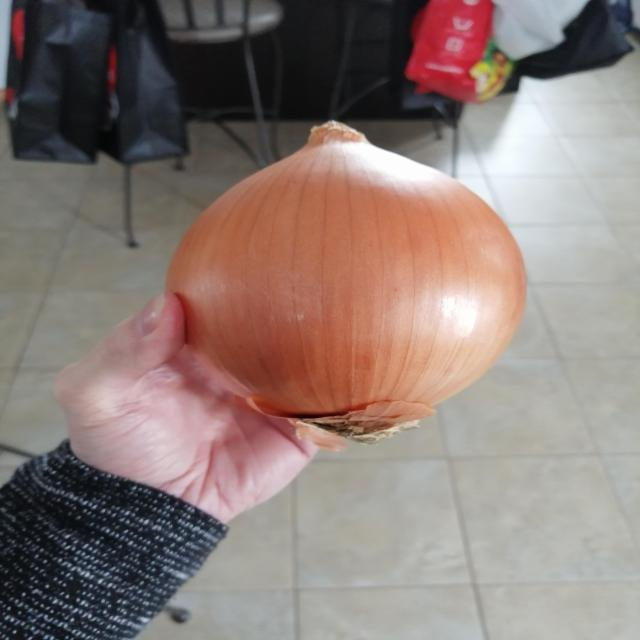Onion: (164, 120, 530, 444)
